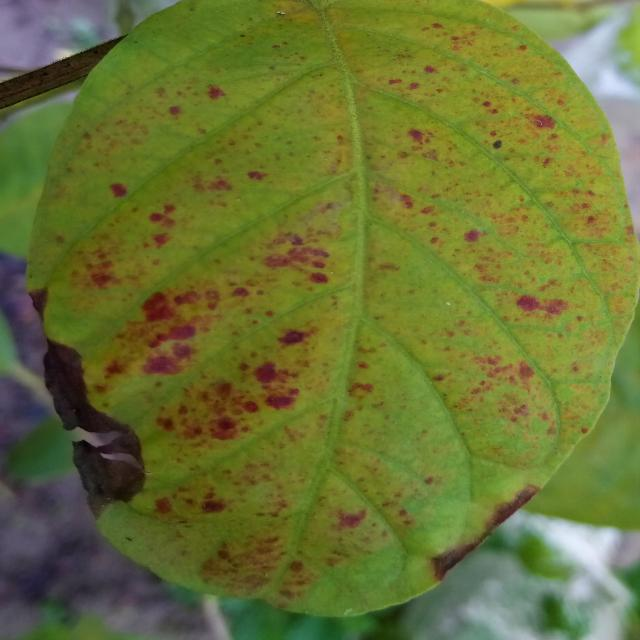Red Rust: (28, 0, 637, 615)
